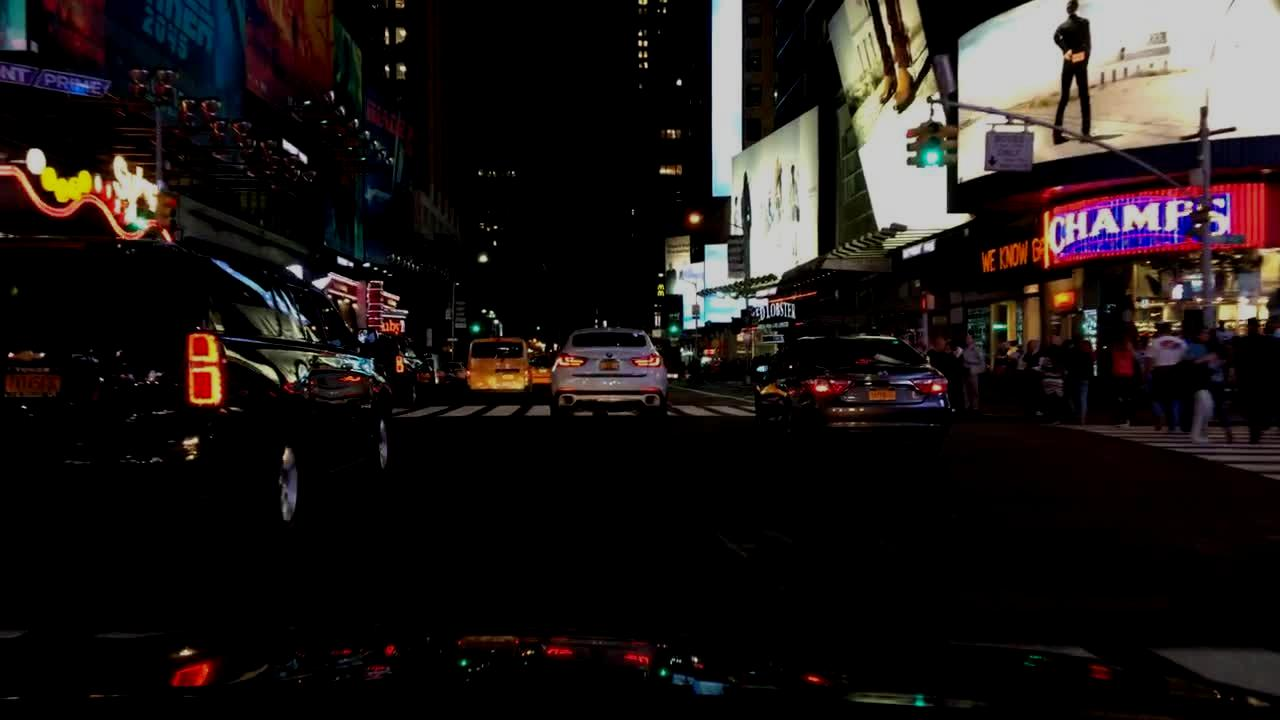bmw: (604, 347, 619, 361)
chevrolet: (3, 344, 66, 365)
